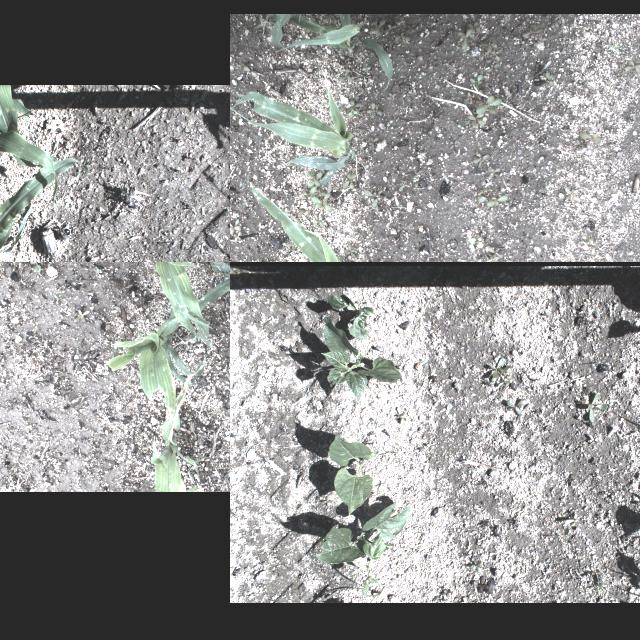crop: (107, 269, 230, 432), (246, 174, 418, 262), (230, 67, 354, 188), (253, 14, 392, 90), (0, 157, 87, 262), (145, 262, 230, 347), (320, 316, 400, 404), (150, 376, 206, 492), (0, 90, 56, 205), (315, 504, 409, 564), (0, 85, 57, 167), (328, 436, 378, 516), (351, 537, 385, 597), (328, 294, 372, 338)
weed: (594, 569, 618, 599), (584, 391, 608, 421), (470, 95, 502, 115), (362, 583, 390, 603), (489, 358, 511, 382), (364, 187, 388, 207), (309, 192, 333, 212), (476, 196, 508, 208), (478, 34, 497, 54), (580, 132, 600, 150), (505, 398, 525, 416), (456, 28, 472, 50), (368, 17, 387, 35), (230, 495, 239, 532), (472, 150, 490, 168), (341, 170, 357, 190), (344, 99, 362, 115), (307, 170, 323, 188), (472, 576, 488, 594), (586, 237, 600, 256), (468, 111, 484, 127), (564, 188, 582, 202), (470, 73, 482, 93), (623, 60, 640, 74), (338, 66, 352, 82), (302, 184, 316, 200), (242, 64, 258, 78), (520, 28, 542, 38), (288, 208, 306, 220), (289, 340, 307, 352), (468, 238, 482, 252), (382, 22, 398, 34), (72, 310, 88, 322), (230, 218, 241, 235), (322, 13, 338, 24), (488, 247, 502, 259), (486, 168, 500, 180), (344, 244, 356, 258), (312, 213, 324, 227), (564, 512, 576, 526), (586, 432, 598, 446), (394, 31, 410, 41), (466, 21, 479, 33), (590, 359, 608, 367), (544, 72, 554, 86), (308, 34, 318, 48), (286, 241, 300, 251), (324, 590, 338, 600), (235, 266, 249, 276), (486, 62, 499, 72), (231, 230, 241, 243), (308, 190, 324, 198), (472, 560, 481, 574), (464, 91, 474, 103), (471, 88, 481, 100), (488, 50, 500, 60), (374, 104, 384, 116), (398, 180, 408, 192), (566, 474, 576, 486), (29, 262, 40, 272), (395, 407, 405, 418), (321, 496, 332, 506), (608, 44, 618, 54), (549, 17, 559, 27), (490, 72, 500, 82), (405, 23, 415, 33), (370, 136, 380, 146), (442, 589, 452, 599), (306, 404, 316, 414), (573, 139, 581, 151), (434, 594, 446, 602), (327, 52, 338, 60), (366, 108, 380, 114), (368, 103, 374, 117), (442, 246, 452, 254), (449, 139, 457, 149), (394, 15, 404, 23), (354, 184, 364, 192), (484, 256, 497, 262), (348, 109, 357, 117), (388, 182, 397, 190), (498, 380, 510, 386), (591, 257, 605, 262), (467, 108, 477, 115), (483, 159, 491, 167), (446, 61, 454, 69), (385, 119, 393, 127), (477, 189, 487, 195), (620, 62, 624, 76), (466, 256, 475, 262), (362, 65, 371, 71), (332, 227, 341, 233), (465, 123, 471, 131), (336, 183, 342, 191), (74, 409, 82, 415), (426, 443, 434, 449), (245, 460, 253, 466), (492, 398, 502, 402), (457, 124, 463, 130), (79, 375, 85, 381), (390, 206, 406, 208), (314, 61, 318, 69), (400, 418, 408, 422), (580, 140, 584, 146), (412, 178, 418, 182), (518, 551, 522, 557), (226, 368, 230, 373), (78, 448, 80, 458), (450, 248, 454, 252)
